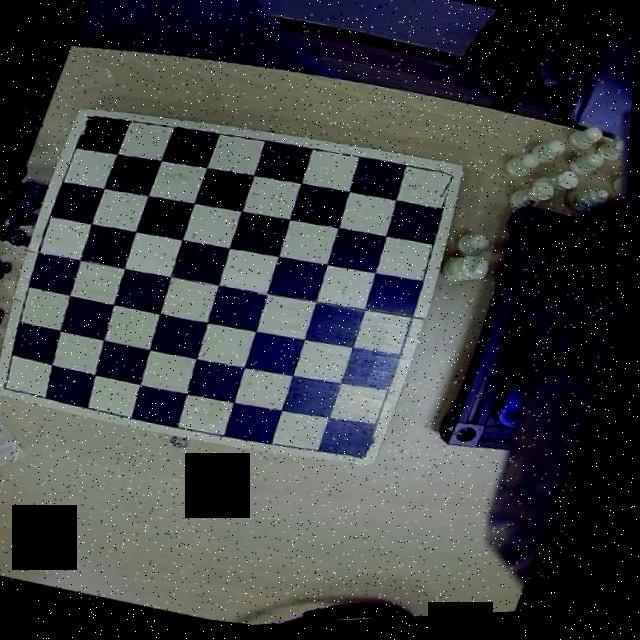chess-table-corners: (423, 164, 466, 206), (346, 432, 385, 472), (73, 104, 112, 141), (0, 369, 30, 399)
